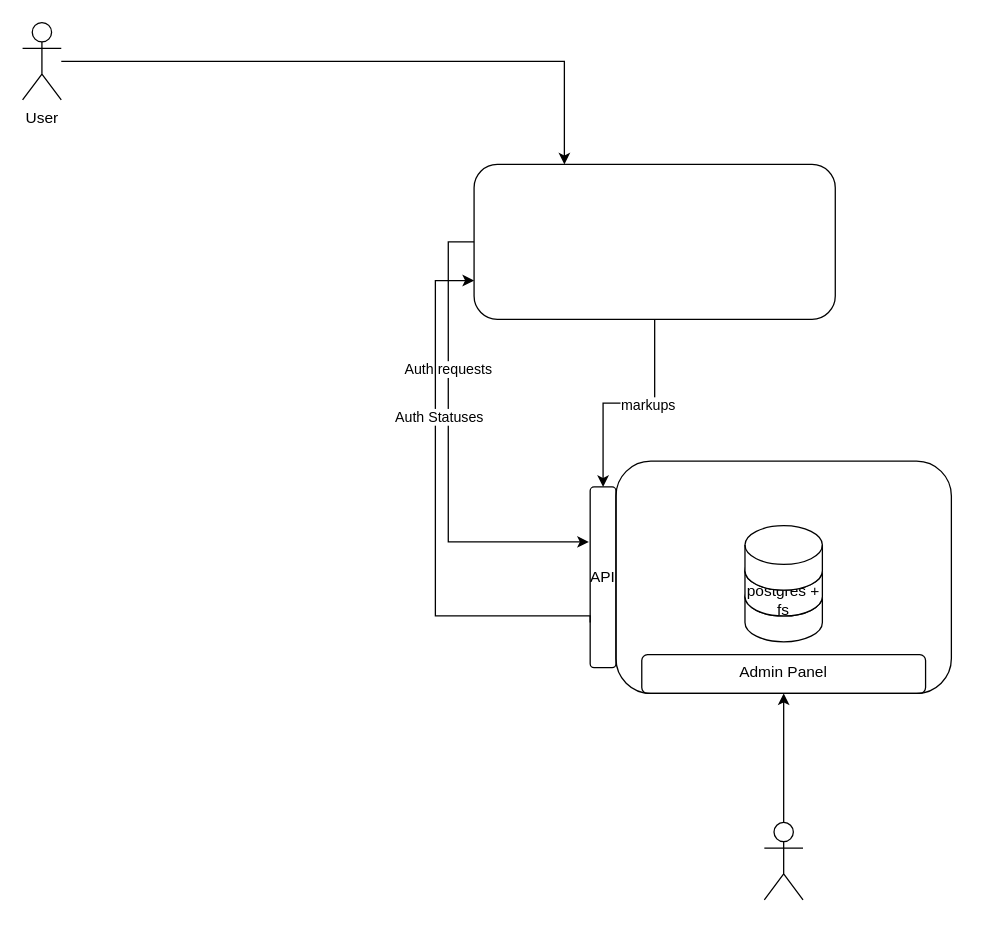
Some shapes in this 987 by 949 pixel diagram are drawn without their labels. The box of each missing label's shape, as (x1, y1, x2, y2) in pixels:
Admin: (763, 821, 803, 900)
Bot: (473, 163, 835, 319)
